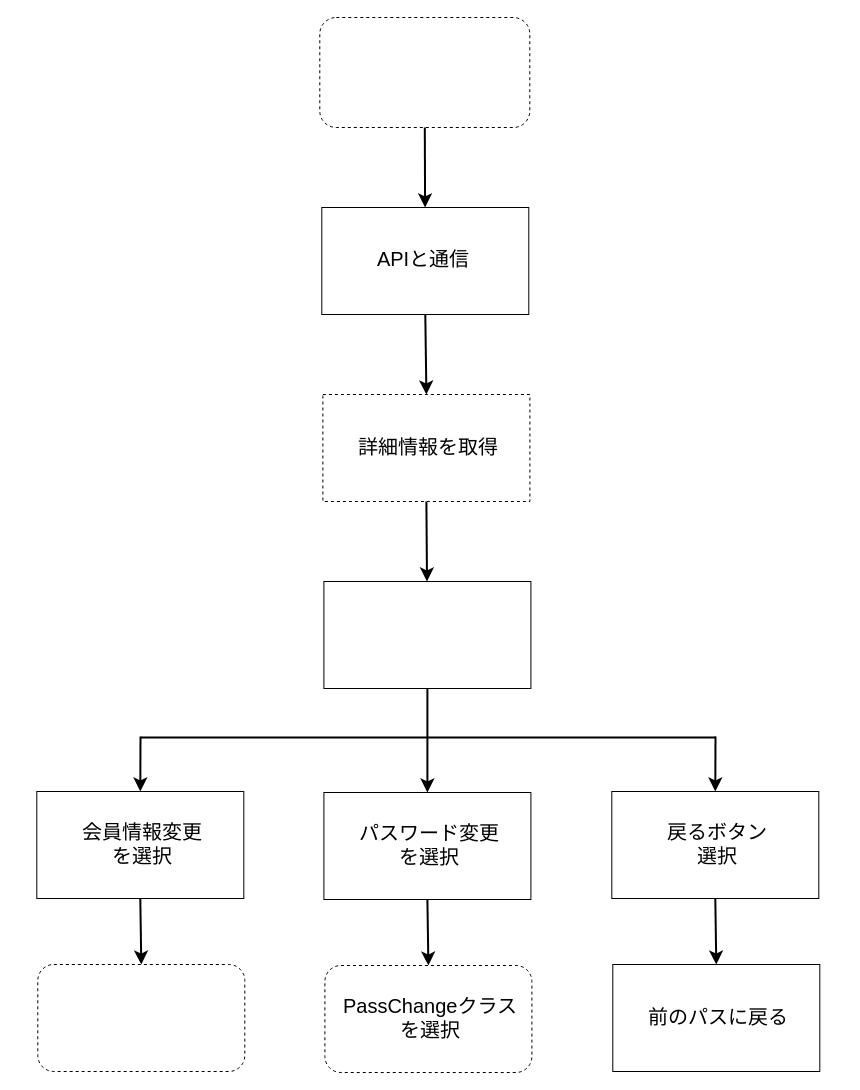
Image size: 860x1090. Some labels were removed from this diagram. The centre of each missing label's shape, as x and y in pixels:
DMemberInformation Changeクラスを選択: the point at 141,1018
DMemberInformation クラス呼び出し: the point at 424,72
会員情報確認画面 を表示: the point at 427,634
